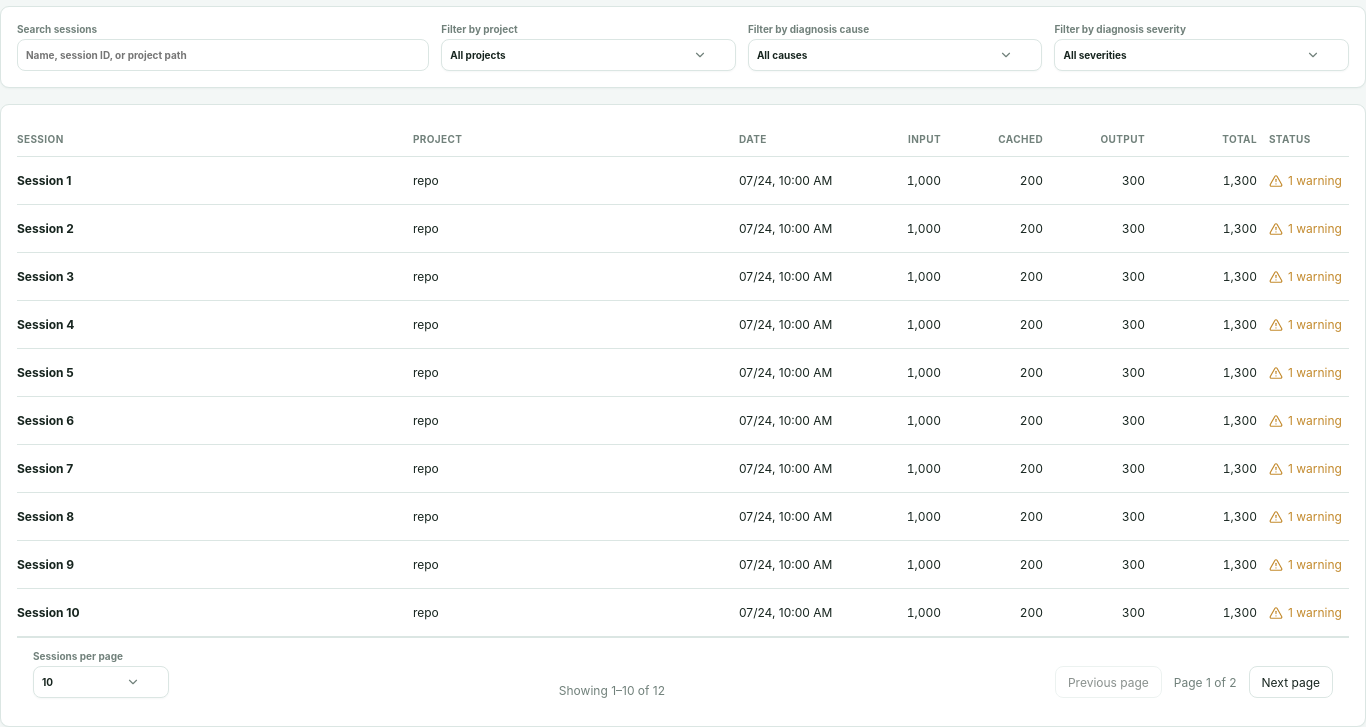
analytics tables › paginates sessions and remembers the selected page size
(page scrolled)
Expected: the text "Session 10" is shown, [17,605,80,620]
Expected: the text "Session 11" is not shown
Click the button "Next page" at (1291, 682), box [1249,666,1333,698]
(page scrolled)
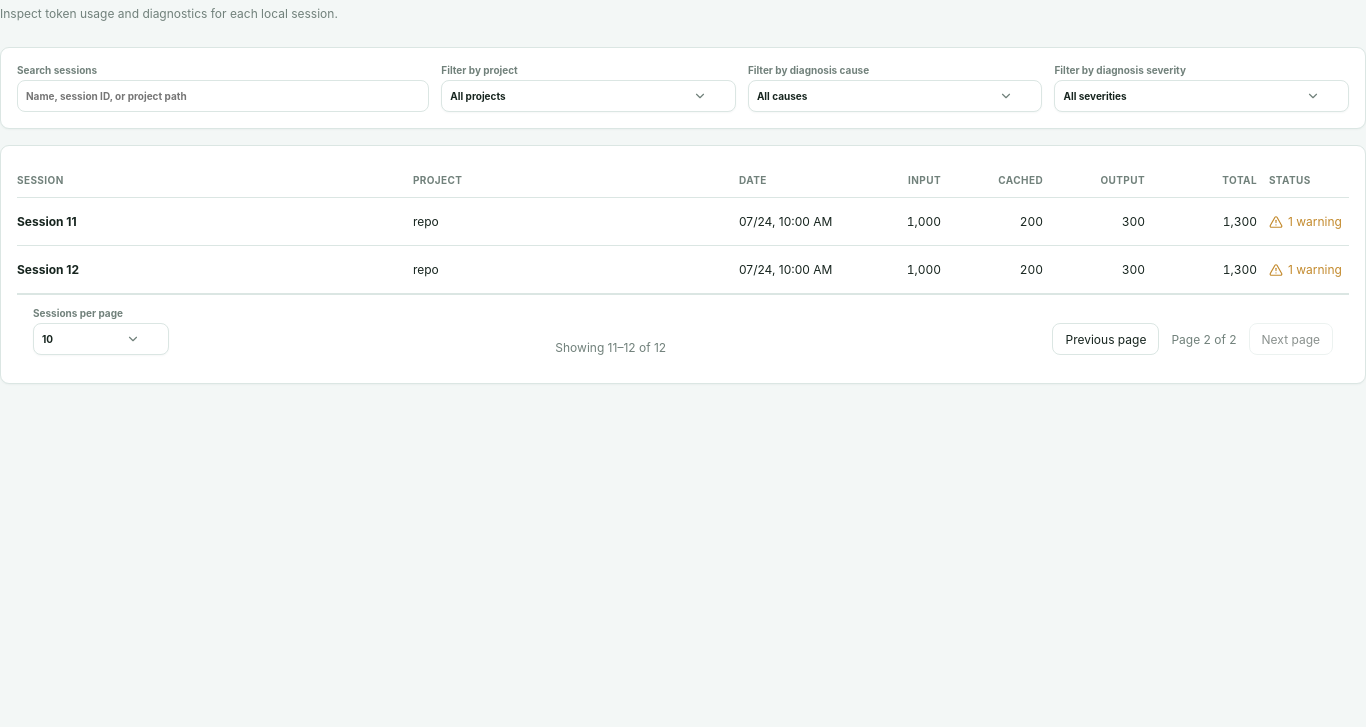
Now the text "Session 11" is shown, box [17,214,77,229]
Now the button "Next page" is disabled, box [1249,323,1333,355]
Click the dropdown named "Sessions per page" at (101, 339), box [33,323,169,355]
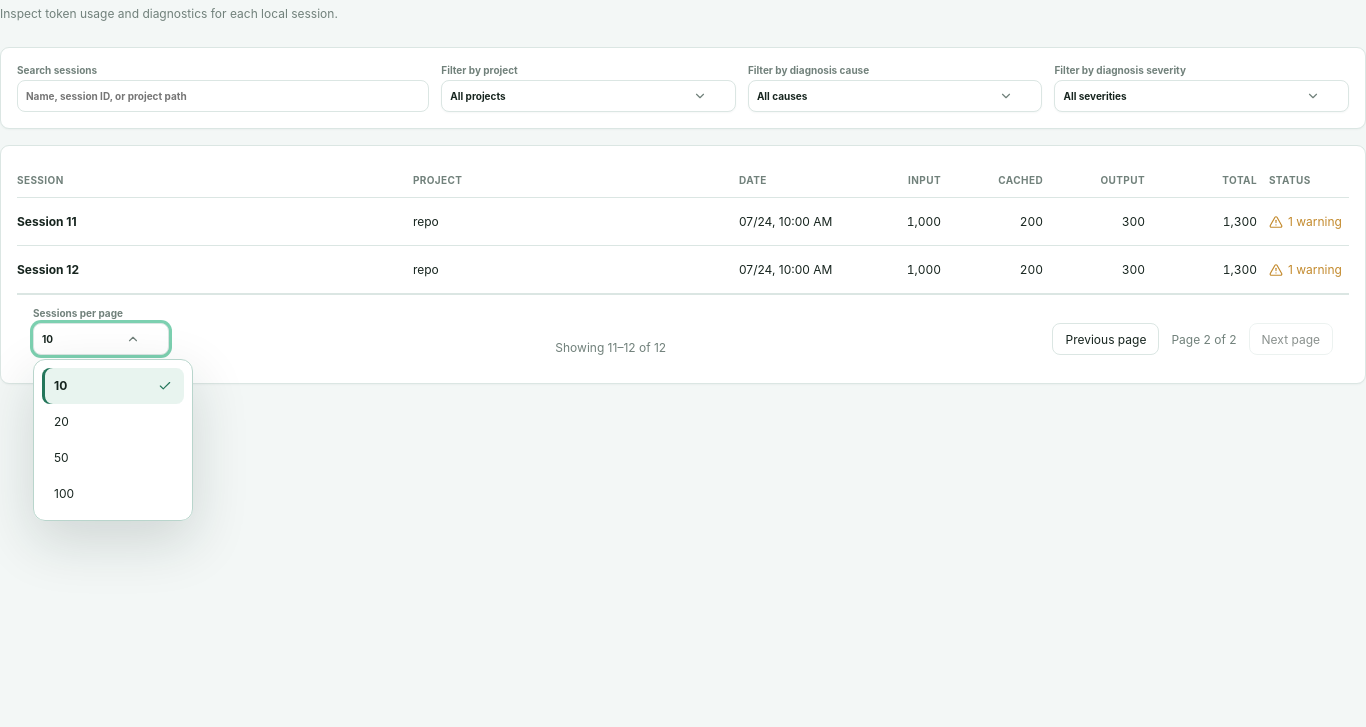
Click the option "20" at (113, 422), box [42,404,184,440]
(page scrolled)
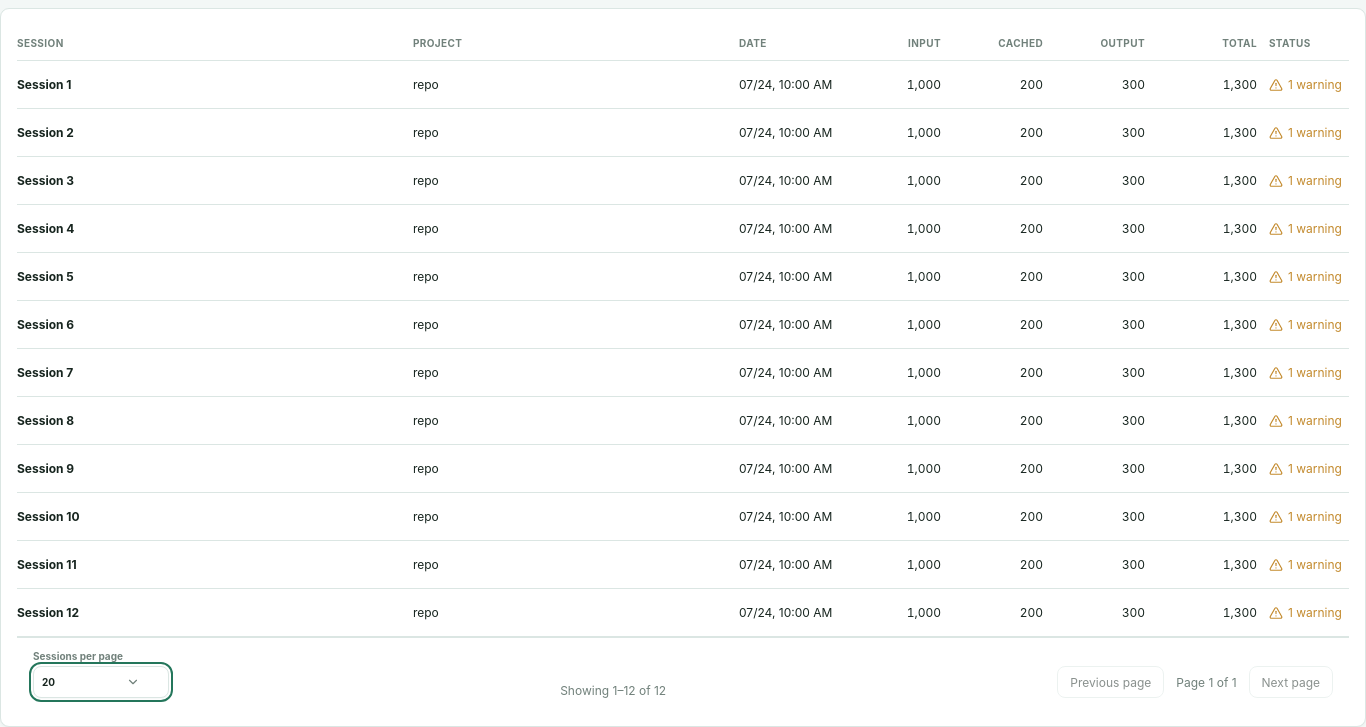
Now the text "Session 12" is shown, box [17,605,79,620]
Now the text "Session 1" is shown, box [17,77,72,92]
